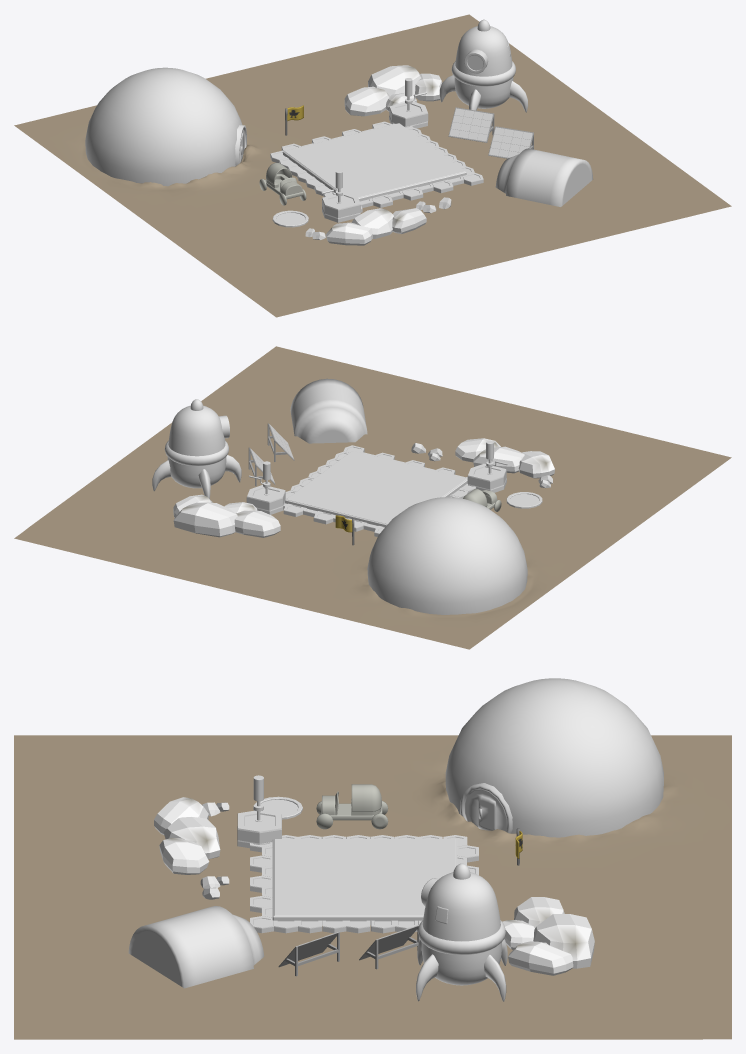
The model's file is SPACE THEME.fbx.
The picture shows the model from 3 angles, top to bottom: view 1: azimuth 30°, elevation 25°; view 2: azimuth 150°, elevation 25°; view 3: azimuth 270°, elevation 25°; orthographic projection. The views are drawn at different scales.
Visible parts, largest first — view 1: 10, 5, 1, 8, 4, 2, 6, 7.1, 7, 12, 1.1, 11; view 2: 10, 5, 1, 8, 4, 6, 2, 1.1, 12, 11; view 3: 10, 5, 1, 8, 4, 6, 2, 12, 1.1, 7, 7.1, 9 (+1 smaller).
Boxes of the visible parts, x1,y1,x2,y2 form: 10: (14, 14, 731, 317); 5: (85, 67, 246, 186); 1: (284, 123, 465, 197); 8: (326, 65, 442, 245); 4: (439, 19, 528, 112); 2: (270, 101, 483, 222); 6: (495, 148, 593, 206); 7.1: (448, 107, 494, 142); 7: (488, 126, 533, 158); 12: (259, 163, 306, 205); 1.1: (283, 124, 466, 201); 11: (272, 210, 308, 227); 10: (14, 346, 731, 649); 5: (367, 497, 527, 614); 1: (286, 451, 466, 524); 8: (173, 438, 554, 537); 4: (152, 399, 241, 498); 6: (290, 378, 367, 443); 2: (246, 445, 506, 536); 1.1: (285, 451, 467, 526); 12: (463, 489, 501, 511); 11: (506, 492, 542, 508); 10: (14, 735, 731, 1039); 5: (445, 678, 663, 837); 1: (274, 839, 455, 925); 8: (154, 797, 594, 975); 4: (416, 863, 507, 1001); 6: (128, 906, 264, 988); 2: (237, 810, 478, 933); 12: (316, 784, 388, 829); 1.1: (272, 839, 457, 924); 7: (278, 931, 339, 976); 7.1: (359, 925, 419, 969); 9: (200, 802, 229, 899).
Size of the model in its own units: 7015 by 1811 by 6996.
